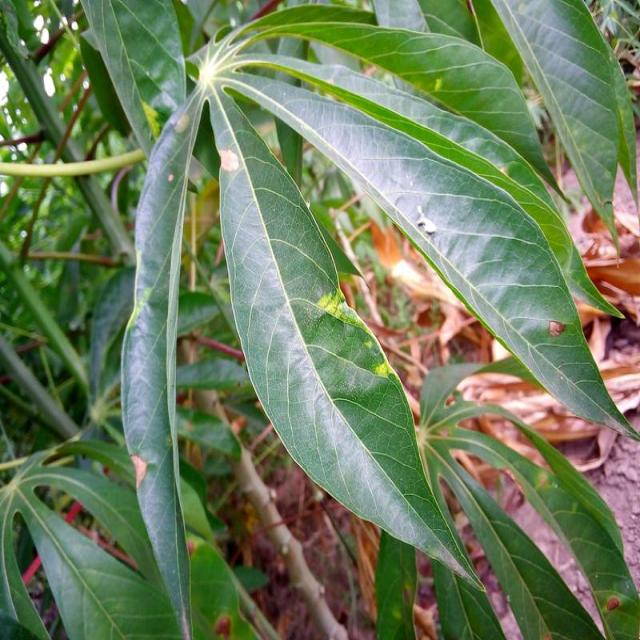cassava leaf: (74, 0, 637, 637), (207, 80, 491, 592)
